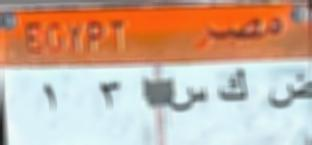1: (41, 80, 60, 113)
3: (96, 79, 125, 115)
daad: (265, 72, 312, 113)
kaaf: (213, 67, 250, 107)
seen: (167, 85, 210, 115)
